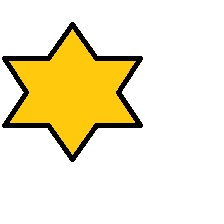star: (1, 22, 143, 163)
